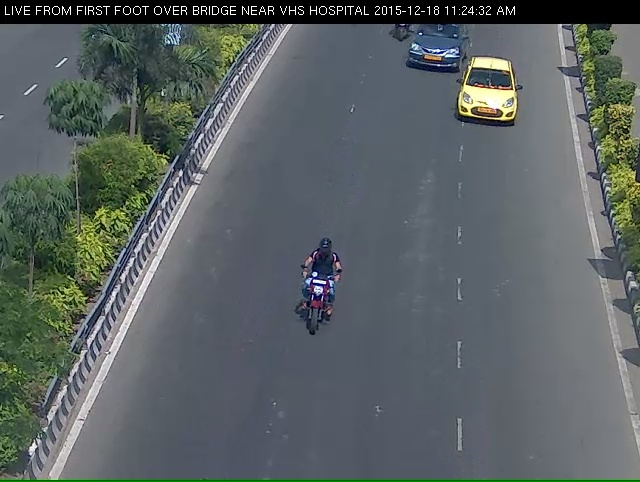Car: (451, 56, 521, 138), (399, 22, 462, 82)
Person: (279, 264, 336, 378)
